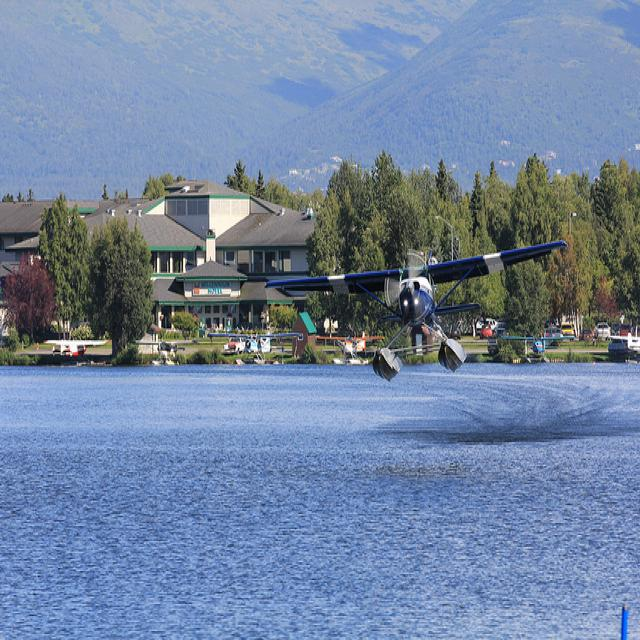Vehicle: (221, 337, 247, 355), (594, 322, 612, 338), (479, 325, 493, 339), (578, 329, 594, 340), (561, 324, 575, 336), (494, 321, 506, 335), (610, 323, 620, 336), (552, 328, 564, 338), (620, 324, 629, 336), (541, 328, 549, 338)
